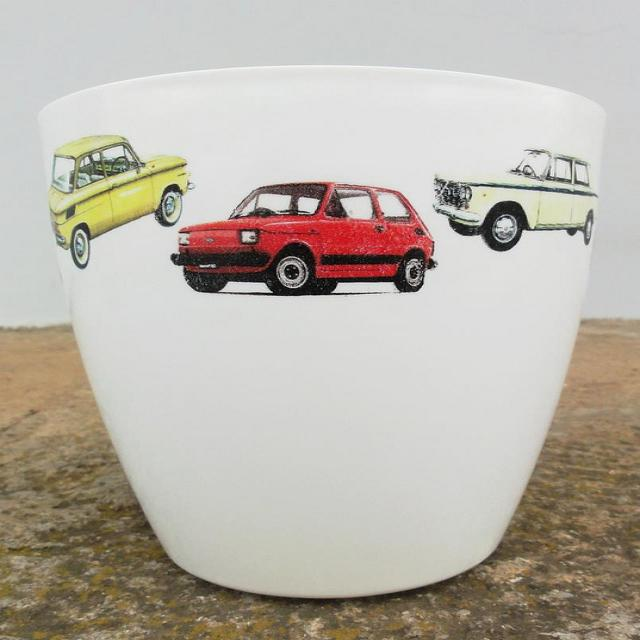Vehicle: (172, 185, 440, 297), (46, 135, 197, 271), (432, 148, 598, 252)
